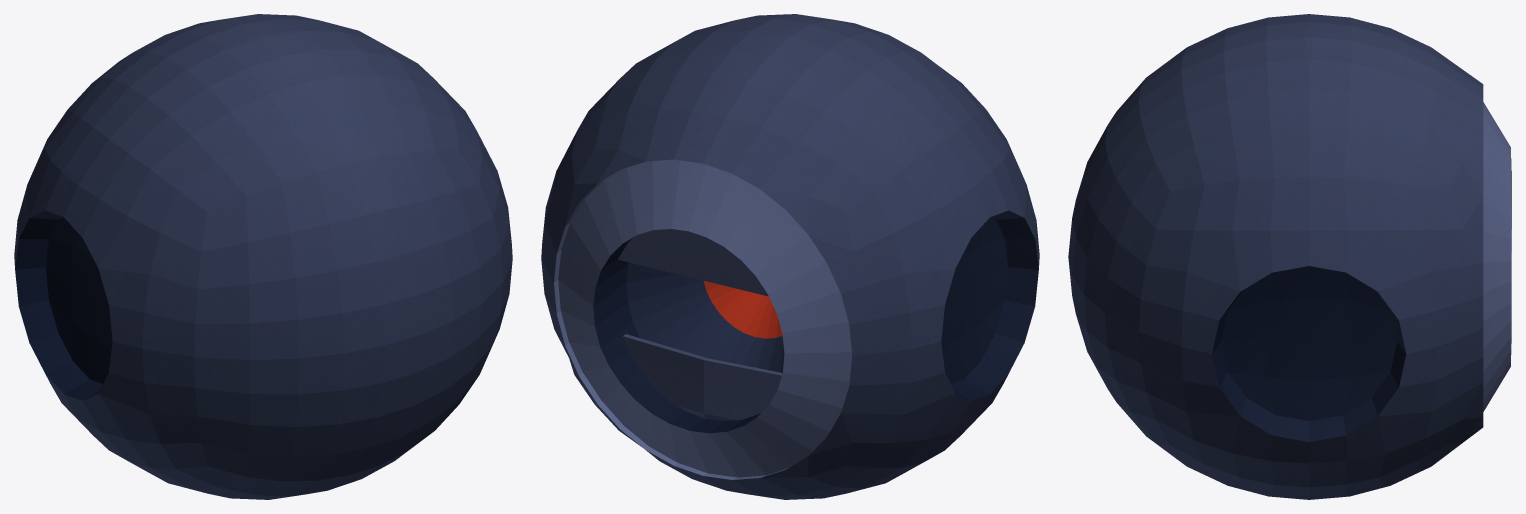
File: Robot_model_NPC.fbx
3 views of the same model, side by side, from view 1: azimuth 30°, elevation 25°; view 2: azimuth 150°, elevation 25°; view 3: azimuth 270°, elevation 25° (orthographic).
Parts seen in each view (by area): view 1: Roundcube.001; view 2: Roundcube.001; view 3: Roundcube.001.
Boxes of the visible parts, left/top/right/bottom form: Roundcube.001: left=14, top=14, right=512, bottom=499; Roundcube.001: left=541, top=14, right=1039, bottom=499; Roundcube.001: left=1068, top=14, right=1511, bottom=499.
Bounding box in the file's own units: 0.9 × 0.9487 × 0.8683.
